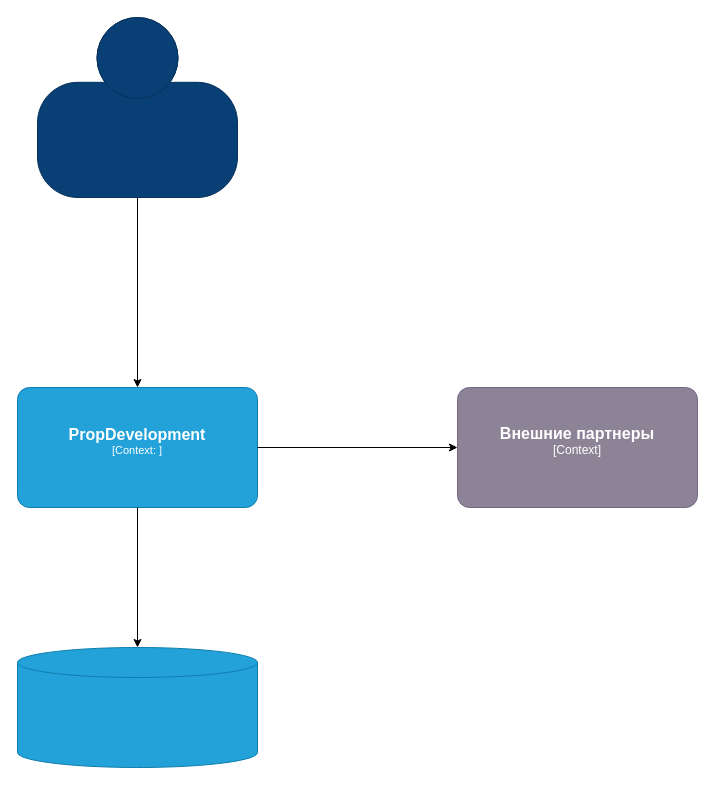
This 715x785 diagram has some shape labels left out. The box of each missing label's shape, as (x1, y1, x2, y2) in pixels:
DataBase [Context: ] Центральный узел хранения данных: (16, 646, 258, 768)
Клиент [Person] Клиент и другие сотрудники: (36, 16, 238, 198)
